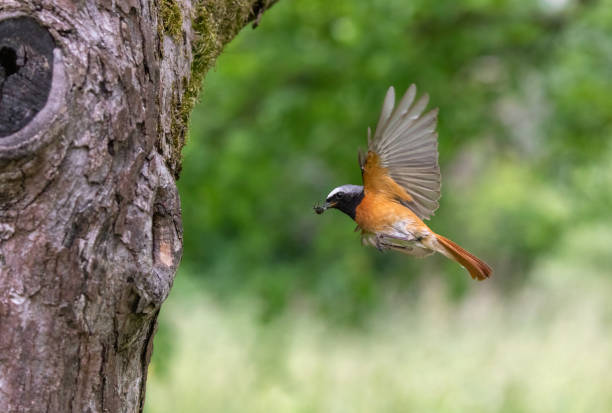Bird: (311, 79, 495, 285)
